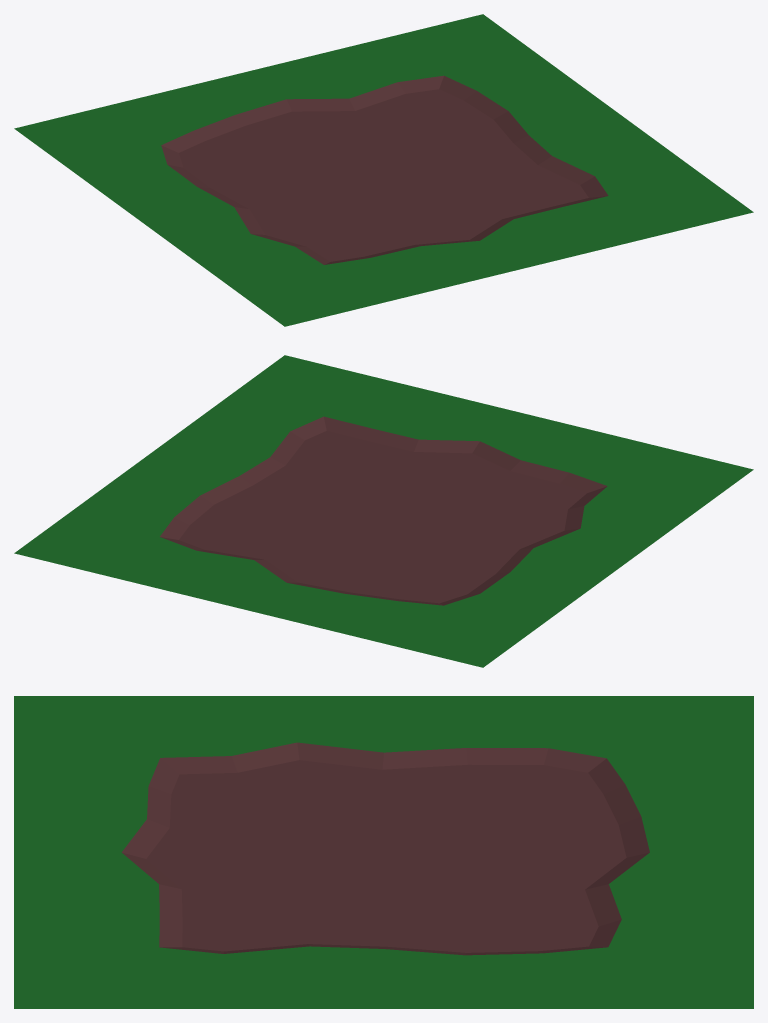
Rendered from Cesped_Barro_Punto.fbx.
3 renders of one model, top to bottom at view 1: azimuth 30°, elevation 25°; view 2: azimuth 150°, elevation 25°; view 3: azimuth 270°, elevation 25°, orthographic. The views are drawn at different scales.
Visible parts, largest first — view 1: Cesped_Barro_Punto; view 2: Cesped_Barro_Punto; view 3: Cesped_Barro_Punto.
Part boxes in pixels (box(x1,y1,x2,y2)): Cesped_Barro_Punto: box(14, 14, 753, 326); Cesped_Barro_Punto: box(14, 355, 753, 667); Cesped_Barro_Punto: box(14, 696, 753, 1008).
Size of the model in its own units: 2000 by 21.77 by 2000.
